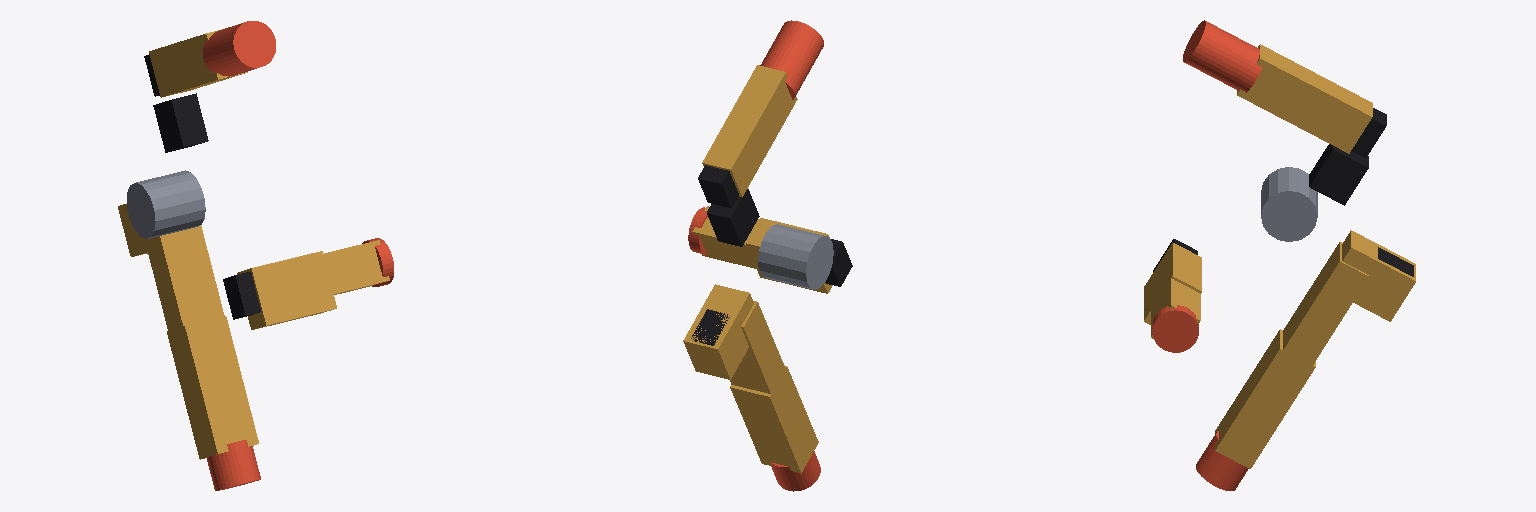
URDF robot description (g0036_c07):
<robot name="g0036_c07">
  <link name="palm">
    <visual name="palm_palm1">
      <origin xyz="0 0 0" rpy="0 0 0" />
      <geometry>
        <mesh filename="palm_palm1.obj" />
      </geometry>
      <material name="palm_palm1_mat">
        <color rgba="0.55 0.57 0.62 1" />
      </material>
    </visual>
    <collision>
      <origin xyz="0 0 0" rpy="0 0 0" />
      <geometry>
        <mesh filename="palm_palm1.obj" />
      </geometry>
    </collision>
    <visual name="palm_mount2">
      <origin xyz="0 0 0" rpy="0 0 0" />
      <geometry>
        <mesh filename="palm_mount2.obj" />
      </geometry>
      <material name="palm_mount2_mat">
        <color rgba="0.55 0.57 0.62 1" />
      </material>
    </visual>
    <collision>
      <origin xyz="0 0 0" rpy="0 0 0" />
      <geometry>
        <mesh filename="palm_mount2.obj" />
      </geometry>
    </collision>
    <visual name="palm_hinge3">
      <origin xyz="0 0.034910254 0.0404663337" rpy="-1.57079633 0.523598776 1.57079633" />
      <geometry>
        <box size="0.029 0.034 0.02" />
      </geometry>
      <material name="palm_hinge3_mat">
        <color rgba="0.15 0.15 0.17 1" />
      </material>
    </visual>
    <collision>
      <origin xyz="0 0.034910254 0.0404663337" rpy="-1.57079633 0.523598776 1.57079633" />
      <geometry>
        <box size="0.029 0.034 0.02" />
      </geometry>
    </collision>
    <visual name="palm_motor4">
      <origin xyz="-0.007 -0.08 -0.04" rpy="1.06057524e-16 -1.04719755 1.57079633" />
      <geometry>
        <box size="0.029 0.034 0.02" />
      </geometry>
      <material name="palm_motor4_mat">
        <color rgba="0.15 0.15 0.17 1" />
      </material>
    </visual>
    <collision>
      <origin xyz="-0.007 -0.08 -0.04" rpy="1.06057524e-16 -1.04719755 1.57079633" />
      <geometry>
        <box size="0.029 0.034 0.02" />
      </geometry>
    </collision>
    <visual name="palm_motor5">
      <origin xyz="-0.0045 0.0666996732 -0.0467548095" rpy="1.57079633 -0.523598776 -1.57079633" />
      <geometry>
        <box size="0.029 0.034 0.02" />
      </geometry>
      <material name="palm_motor5_mat">
        <color rgba="0.15 0.15 0.17 1" />
      </material>
    </visual>
    <collision>
      <origin xyz="-0.0045 0.0666996732 -0.0467548095" rpy="1.57079633 -0.523598776 -1.57079633" />
      <geometry>
        <box size="0.029 0.034 0.02" />
      </geometry>
    </collision>
    <inertial>
      <origin xyz="3.5836722e-19 0.00613984761 -0.0156560094" rpy="1.57079633 -0.120590039 1.57079633" />
      <mass value="0.689380229" />
      <inertia ixx="0.000693277925" ixy="0" ixz="0" iyy="0.00142955126" iyz="0" izz="0.00205664868" />
    </inertial>
  </link>
  <link name="palm0">
    <visual name="palm0_palm1">
      <origin xyz="0 0 0" rpy="0 0 0" />
      <geometry>
        <mesh filename="palm0_palm1.obj" />
      </geometry>
      <material name="palm0_palm1_mat">
        <color rgba="0.55 0.57 0.62 1" />
      </material>
    </visual>
    <collision>
      <origin xyz="0 0 0" rpy="0 0 0" />
      <geometry>
        <mesh filename="palm0_palm1.obj" />
      </geometry>
    </collision>
    <visual name="palm0_motor2">
      <origin xyz="0 0.00783493649 0.0292884758" rpy="-1.57079633 -1.04719755 1.57079633" />
      <geometry>
        <box size="0.029 0.034 0.02" />
      </geometry>
      <material name="palm0_motor2_mat">
        <color rgba="0.15 0.15 0.17 1" />
      </material>
    </visual>
    <collision>
      <origin xyz="0 0.00783493649 0.0292884758" rpy="-1.57079633 -1.04719755 1.57079633" />
      <geometry>
        <box size="0.029 0.034 0.02" />
      </geometry>
    </collision>
    <inertial>
      <origin xyz="0 0.00991284336 0.0202126504" rpy="1.57079633 0.686106912 1.57079633" />
      <mass value="0.105475425" />
      <inertia ixx="1.88552497e-05" ixy="0" ixz="0" iyy="4.34249676e-05" iyz="0" izz="5.21545765e-05" />
    </inertial>
  </link>
  <link name="f0_link0">
    <visual name="f0_link0_link1">
      <origin xyz="0.01625 -0.004 0" rpy="4.06369831e-17 2.80588734e-33 -2.0827301e-33" />
      <geometry>
        <box size="0.0565 0.041 0.024" />
      </geometry>
      <material name="f0_link0_link1_mat">
        <color rgba="0.80 0.62 0.30 1" />
      </material>
    </visual>
    <collision>
      <origin xyz="0.01625 -0.004 0" rpy="4.06369831e-17 2.80588734e-33 -2.0827301e-33" />
      <geometry>
        <box size="0.0565 0.041 0.024" />
      </geometry>
    </collision>
    <inertial>
      <origin xyz="0.01625 -0.004 0" rpy="0 0 0" />
      <mass value="0.097293" />
      <inertia ixx="1.82991918e-05" ixy="0" ixz="0" iyy="3.05520289e-05" iyz="0" izz="3.95110927e-05" />
    </inertial>
  </link>
  <link name="f0_link1">
    <visual name="f0_link1_link1">
      <origin xyz="0.0215 0 -6.9388939e-18" rpy="4.06369831e-17 2.80588734e-33 -2.0827301e-33" />
      <geometry>
        <box size="0.076 0.029 0.024" />
      </geometry>
      <material name="f0_link1_link1_mat">
        <color rgba="0.80 0.62 0.30 1" />
      </material>
    </visual>
    <collision>
      <origin xyz="0.0215 0 -6.9388939e-18" rpy="4.06369831e-17 2.80588734e-33 -2.0827301e-33" />
      <geometry>
        <box size="0.076 0.029 0.024" />
      </geometry>
    </collision>
    <inertial>
      <origin xyz="0.0215 0 0" rpy="0 0 0" />
      <mass value="0.092568" />
      <inertia ixx="1.0930738e-05" ixy="0" ixz="0" iyy="4.8999328e-05" iyz="0" izz="5.1043538e-05" />
    </inertial>
  </link>
  <link name="f0_link2">
    <visual name="f0_link2_link1">
      <origin xyz="0.009 1.38777878e-17 -6.9388939e-18" rpy="-1.57079633 -0 -1.57079633" />
      <geometry>
        <cylinder radius="0.0165" length="0.009" />
      </geometry>
      <material name="f0_link2_link1_mat">
        <color rgba="0.85 0.35 0.25 1" />
      </material>
    </visual>
    <collision>
      <origin xyz="0.009 1.38777878e-17 -6.9388939e-18" rpy="-1.57079633 -0 -1.57079633" />
      <geometry>
        <cylinder radius="0.0165" length="0.009" />
      </geometry>
    </collision>
    <inertial>
      <origin xyz="0.009 0 0" rpy="0 0 0" />
      <mass value="0.046399949" />
      <inertia ixx="5.41970115e-06" ixy="0" ixz="0" iyy="7.09430898e-06" iyz="0" izz="7.09430898e-06" />
    </inertial>
  </link>
  <link name="f1_link0">
    <visual name="f1_link0_link1">
      <origin xyz="-0.00625 0 -0.0165" rpy="0 4.06369831e-17 0" />
      <geometry>
        <box size="0.0365 0.029 0.053" />
      </geometry>
      <material name="f1_link0_link1_mat">
        <color rgba="0.80 0.62 0.30 1" />
      </material>
    </visual>
    <collision>
      <origin xyz="-0.00625 0 -0.0165" rpy="0 4.06369831e-17 0" />
      <geometry>
        <box size="0.0365 0.029 0.053" />
      </geometry>
    </collision>
    <inertial>
      <origin xyz="-0.00625 0 -0.0165" rpy="0 0 0" />
      <mass value="0.098175875" />
      <inertia ixx="2.98618286e-05" ixy="0" ixz="0" iyy="3.38809035e-05" iyz="0" izz="1.778006e-05" />
    </inertial>
  </link>
  <link name="f1_link1">
    <visual name="f1_link1_link1">
      <origin xyz="0.03875 0 0" rpy="0 4.06369831e-17 0" />
      <geometry>
        <box size="0.1015 0.033 0.024" />
      </geometry>
      <material name="f1_link1_link1_mat">
        <color rgba="0.80 0.62 0.30 1" />
      </material>
    </visual>
    <collision>
      <origin xyz="0.03875 0 0" rpy="0 4.06369831e-17 0" />
      <geometry>
        <box size="0.1015 0.033 0.024" />
      </geometry>
    </collision>
    <inertial>
      <origin xyz="0.03875 0 0" rpy="0 0 0" />
      <mass value="0.140679" />
      <inertia ixx="1.95192113e-05" ixy="0" ixz="0" iyy="0.000127528444" iyz="0" izz="0.000133542472" />
    </inertial>
  </link>
  <link name="f1_link2">
    <visual name="f1_link2_link1">
      <origin xyz="0.03375 0 0" rpy="0 4.06369831e-17 0" />
      <geometry>
        <box size="0.0915 0.033 0.029" />
      </geometry>
      <material name="f1_link2_link1_mat">
        <color rgba="0.80 0.62 0.30 1" />
      </material>
    </visual>
    <collision>
      <origin xyz="0.03375 0 0" rpy="0 4.06369831e-17 0" />
      <geometry>
        <box size="0.0915 0.033 0.029" />
      </geometry>
    </collision>
    <inertial>
      <origin xyz="0.03375 0 0" rpy="0 0 0" />
      <mass value="0.153239625" />
      <inertia ixx="2.46460397e-05" ixy="0" ixz="0" iyy="0.000117652915" iyz="0" izz="0.000120819867" />
    </inertial>
  </link>
  <link name="f1_link3">
    <visual name="f1_link3_link1">
      <origin xyz="0.019 0 -1.38777878e-17" rpy="-1.57079633 -0 -1.57079633" />
      <geometry>
        <cylinder radius="0.0165" length="0.029" />
      </geometry>
      <material name="f1_link3_link1_mat">
        <color rgba="0.85 0.35 0.25 1" />
      </material>
    </visual>
    <collision>
      <origin xyz="0.019 0 -1.38777878e-17" rpy="-1.57079633 -0 -1.57079633" />
      <geometry>
        <cylinder radius="0.0165" length="0.029" />
      </geometry>
    </collision>
    <inertial>
      <origin xyz="0.019 0 0" rpy="0 0 0" />
      <mass value="0.0763354" />
      <inertia ixx="9.49466441e-06" ixy="0" ixz="0" iyy="2.24143997e-05" iyz="0" izz="2.24143997e-05" />
    </inertial>
  </link>
  <link name="f2_link0">
    <visual name="f2_link0_link1">
      <origin xyz="0.03375 0 0" rpy="0 7.03853194e-17 0" />
      <geometry>
        <box size="0.0915 0.024 0.033" />
      </geometry>
      <material name="f2_link0_link1_mat">
        <color rgba="0.80 0.62 0.30 1" />
      </material>
    </visual>
    <collision>
      <origin xyz="0.03375 0 0" rpy="0 7.03853194e-17 0" />
      <geometry>
        <box size="0.0915 0.024 0.033" />
      </geometry>
    </collision>
    <inertial>
      <origin xyz="0.03375 0 0" rpy="0 0 0" />
      <mass value="0.126819" />
      <inertia ixx="1.75961363e-05" ixy="0" ixz="0" iyy="9.99888553e-05" iyz="0" izz="9.45673431e-05" />
    </inertial>
  </link>
  <link name="f2_link1">
    <visual name="f2_link1_link1">
      <origin xyz="0.029 0 -6.9388939e-18" rpy="-1.57079633 -0 -1.57079633" />
      <geometry>
        <cylinder radius="0.0165" length="0.049" />
      </geometry>
      <material name="f2_link1_link1_mat">
        <color rgba="0.85 0.35 0.25 1" />
      </material>
    </visual>
    <collision>
      <origin xyz="0.029 0 -6.9388939e-18" rpy="-1.57079633 -0 -1.57079633" />
      <geometry>
        <cylinder radius="0.0165" length="0.049" />
      </geometry>
    </collision>
    <inertial>
      <origin xyz="0.029 0 0" rpy="0 0 0" />
      <mass value="0.106270851" />
      <inertia ixx="1.35696277e-05" ixy="0" ixz="0" iyy="5.30015704e-05" iyz="0" izz="5.30015704e-05" />
    </inertial>
  </link>
  <joint name="palm0_joint" type="revolute">
    <parent link="palm" />
    <child link="palm0" />
    <origin xyz="0 0.038660254 0.0469615242" rpy="0 0 0" />
    <axis xyz="0 0.866025404 -0.5" />
    <limit effort="0.5" lower="-0.523598776" upper="0.523598776" velocity="5" />
    <dynamics damping="0.0775033" friction="0" />
  </joint>
  <joint name="f0_j0" type="revolute">
    <parent link="palm" />
    <child link="f0_link0" />
    <origin xyz="0.0005 -0.08 -0.04" rpy="1.04719755 5.30287619e-17 -3.061617e-17" />
    <axis xyz="0 1 6.123234e-17" />
    <limit effort="0.5" lower="-0.523598776" upper="0.523598776" velocity="5" />
    <dynamics damping="0.0775033" friction="0" />
  </joint>
  <joint name="f0_j1" type="revolute">
    <parent link="f0_link0" />
    <child link="f0_link1" />
    <origin xyz="0.03 0 0" rpy="0 0 0" />
    <axis xyz="1 0 6.123234e-17" />
    <limit effort="0.5" lower="-1.57079633" upper="1.57079633" velocity="5" />
    <dynamics damping="0.0775033" friction="0" />
  </joint>
  <joint name="f0_j2" type="revolute">
    <parent link="f0_link1" />
    <child link="f0_link2" />
    <origin xyz="0.05 0 0" rpy="0 0 0" />
    <axis xyz="0 1 6.123234e-17" />
    <limit effort="0.5" lower="-0.523598776" upper="0.523598776" velocity="5" />
    <dynamics damping="0.0775033" friction="0" />
  </joint>
  <joint name="f1_j0" type="revolute">
    <parent link="palm" />
    <child link="f1_link0" />
    <origin xyz="-0.0045 0.04 -0.04" rpy="0 1.04719755 -1.57079633" />
    <axis xyz="0 0 1" />
    <limit effort="0.5" lower="-0.523598776" upper="1.57079633" velocity="5" />
    <dynamics damping="0.0775033" friction="0" />
  </joint>
  <joint name="f1_j1" type="revolute">
    <parent link="f1_link0" />
    <child link="f1_link1" />
    <origin xyz="0 0 0" rpy="0 0 0" />
    <axis xyz="0 1 6.123234e-17" />
    <limit effort="0.5" lower="-0.523598776" upper="0.523598776" velocity="5" />
    <dynamics damping="0.0775033" friction="0" />
  </joint>
  <joint name="f1_j2" type="revolute">
    <parent link="f1_link1" />
    <child link="f1_link2" />
    <origin xyz="0.08 0 0" rpy="0 0 0" />
    <axis xyz="0 1 6.123234e-17" />
    <limit effort="0.5" lower="-0.523598776" upper="0.523598776" velocity="5" />
    <dynamics damping="0.0775033" friction="0" />
  </joint>
  <joint name="f1_j3" type="revolute">
    <parent link="f1_link2" />
    <child link="f1_link3" />
    <origin xyz="0.07 0 0" rpy="0 0 0" />
    <axis xyz="0 0 1" />
    <limit effort="0.5" lower="-0.523598776" upper="1.57079633" velocity="5" />
    <dynamics damping="0.0775033" friction="0" />
  </joint>
  <joint name="f2_j0" type="revolute">
    <parent link="palm0" />
    <child link="f2_link0" />
    <origin xyz="0 0.00133974596 0.0330384758" rpy="-0 -0.523598776 -1.57079633" />
    <axis xyz="0 0 1" />
    <limit effort="0.5" lower="-0.523598776" upper="1.57079633" velocity="5" />
    <dynamics damping="0.0775033" friction="0" />
  </joint>
  <joint name="f2_j1" type="revolute">
    <parent link="f2_link0" />
    <child link="f2_link1" />
    <origin xyz="0.07 0 0" rpy="0 0 0" />
    <axis xyz="0 0 1" />
    <limit effort="0.5" lower="-0.523598776" upper="1.57079633" velocity="5" />
    <dynamics damping="0.0775033" friction="0" />
  </joint>
</robot>

--- Render facts (derived) ---
The picture shows the robot from 3 angles, left to right: view 1: azimuth 30°, elevation 25°; view 2: azimuth 150°, elevation 25°; view 3: azimuth 270°, elevation 25°; orthographic projection.
Robot: g0036_c07 — 11 links, 10 joints (10 revolute); root link palm; default pose: all joints at 0.
Links seen in each view (by area): view 1: f1_link2, palm, f1_link1, f0_link0, f0_link1, f2_link1, f2_link0, f1_link3, f1_link0, f0_link2; view 2: palm, f2_link0, f1_link2, f1_link0, f1_link1, f2_link1, f0_link1, palm0, f1_link3, f0_link0; view 3: f2_link0, palm, f1_link1, f1_link2, f2_link1, f1_link0, f0_link0, f0_link2, f1_link3, f0_link1, palm0.
Link boxes in pixels (<box>): f1_link2: <box>167,316,258,459</box>; palm: <box>127,93,260,319</box>; f1_link1: <box>145,225,224,330</box>; f0_link0: <box>237,251,336,329</box>; f0_link1: <box>285,240,389,303</box>; f2_link1: <box>203,21,275,76</box>; f2_link0: <box>149,30,247,97</box>; f1_link3: <box>207,440,260,490</box>; f1_link0: <box>118,204,147,256</box>; f0_link2: <box>362,238,393,286</box>; palm: <box>691,189,852,345</box>; f2_link0: <box>702,65,797,196</box>; f1_link2: <box>730,365,818,473</box>; f1_link0: <box>683,284,753,379</box>; f1_link1: <box>730,301,792,406</box>; f2_link1: <box>760,20,823,99</box>; f0_link1: <box>692,206,759,268</box>; palm0: <box>698,165,738,207</box>; f1_link3: <box>771,451,820,491</box>; f0_link0: <box>746,218,832,293</box>; f2_link0: <box>1237,44,1372,153</box>; palm: <box>1153,144,1413,276</box>; f1_link1: <box>1268,242,1368,387</box>; f1_link2: <box>1215,329,1315,468</box>; f2_link1: <box>1183,20,1261,92</box>; f1_link0: <box>1342,230,1415,321</box>; f0_link0: <box>1144,242,1201,324</box>; f0_link2: <box>1152,305,1198,352</box>; f1_link3: <box>1196,431,1248,490</box>; f0_link1: <box>1151,278,1200,352</box>; palm0: <box>1351,108,1386,157</box>.
Bounding box of the posed robot: 0.146 × 0.1921 × 0.3632 m (x, y, z).
1 mesh visuals loaded from 3 distinct referenced files (1 OBJ); not drawn: 2 (reference not matched to a file when rendering).
